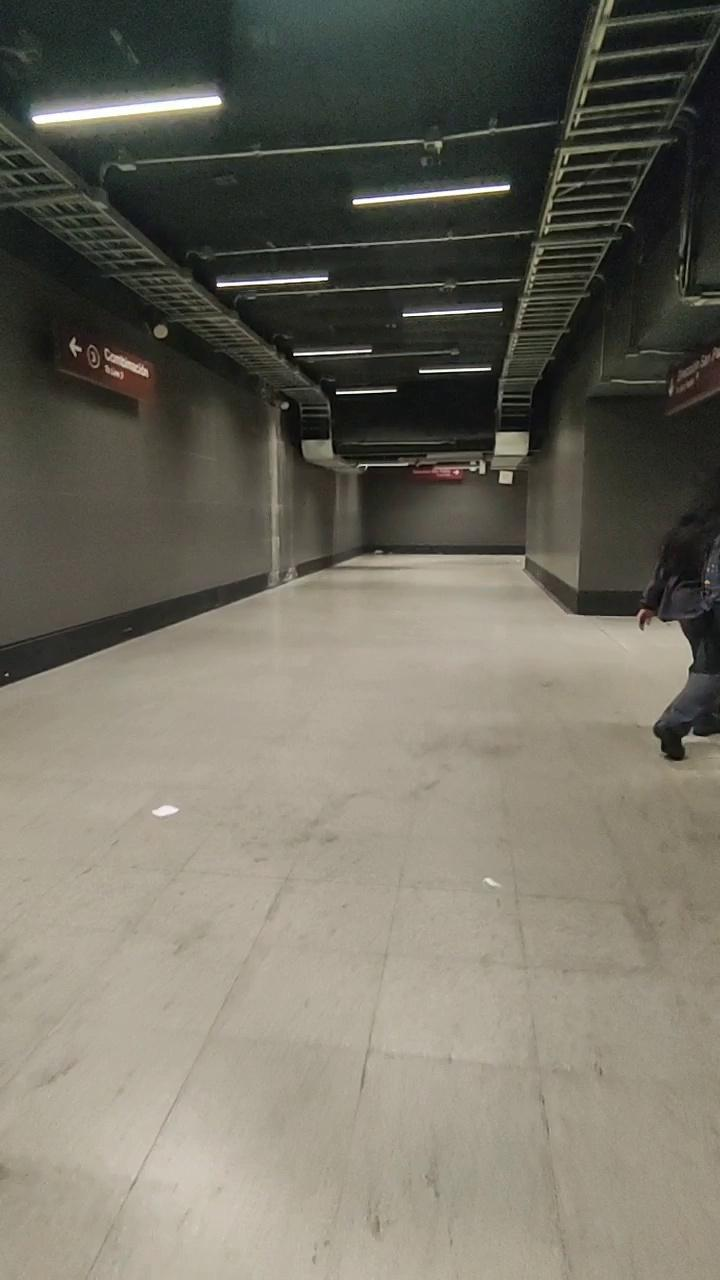left arrow: (66, 334, 89, 366)
